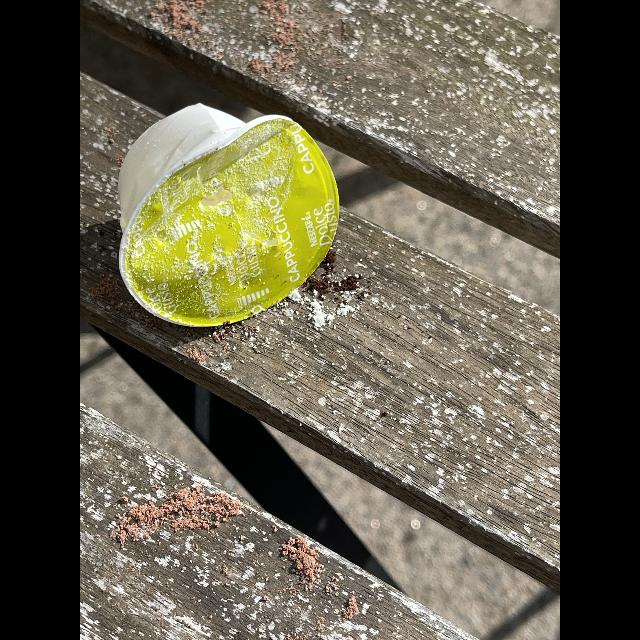damaged_capsule: (101, 90, 351, 344)
